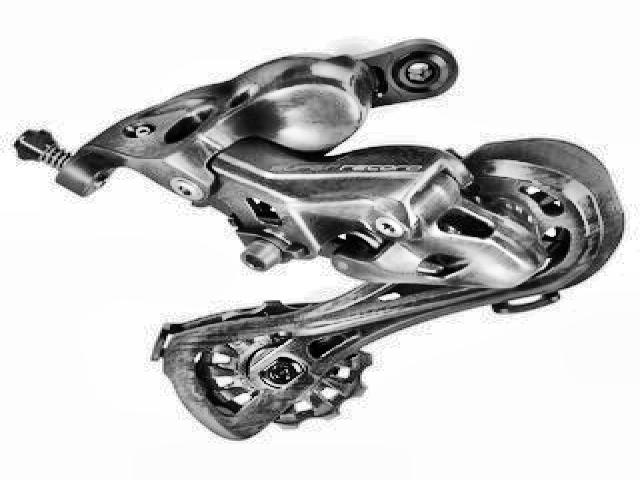rear_derailleur: (15, 31, 630, 447)
